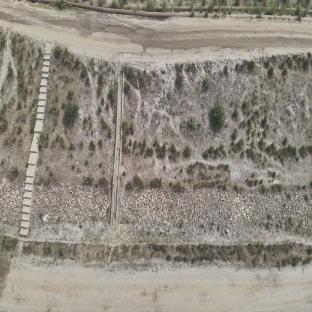rock_toe: (118, 188, 310, 234), (31, 185, 111, 224), (1, 178, 25, 223)
slope_drain: (110, 75, 124, 229)
toe_drain: (2, 236, 311, 265)
